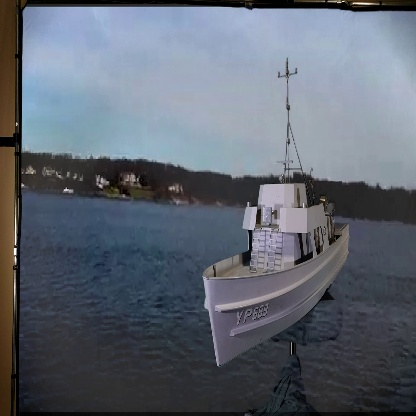YP689: (201, 57, 351, 368)
